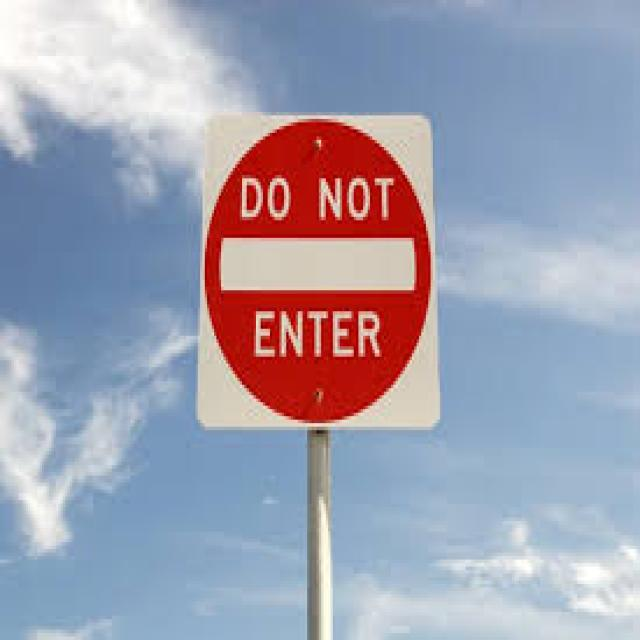doNotEnter: (198, 114, 431, 429)
